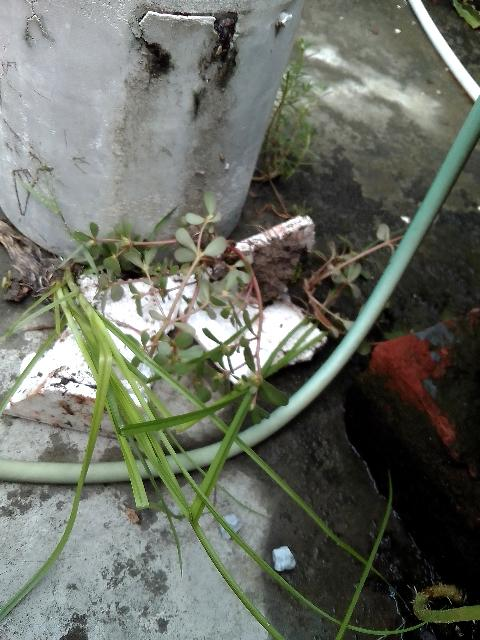cocksheet: (161, 209, 328, 389)
